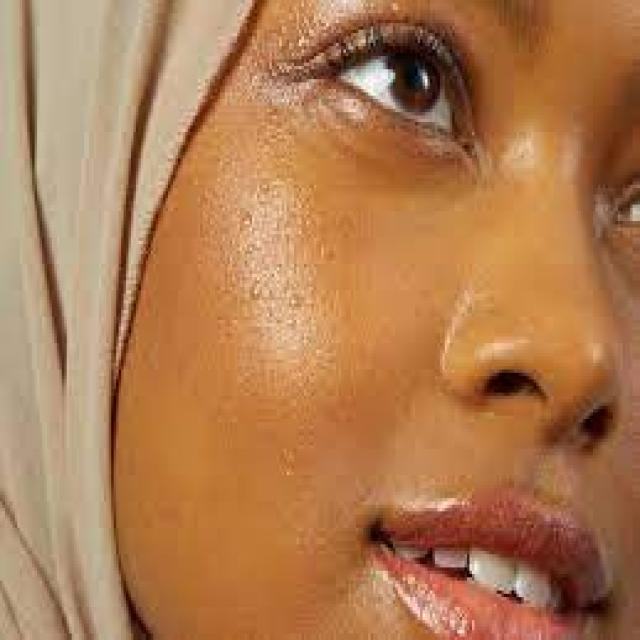oily: (213, 22, 573, 540)
